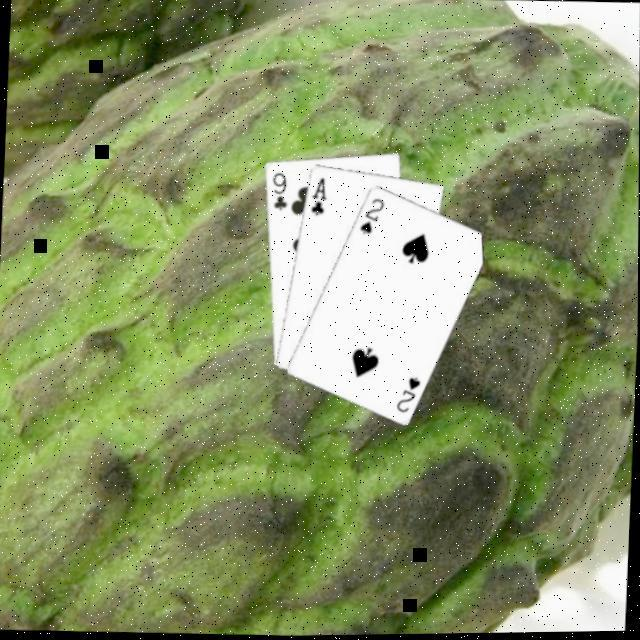2S: (392, 374, 422, 417), (355, 196, 385, 238)
9C: (267, 170, 290, 214)
AC: (306, 175, 328, 220)
